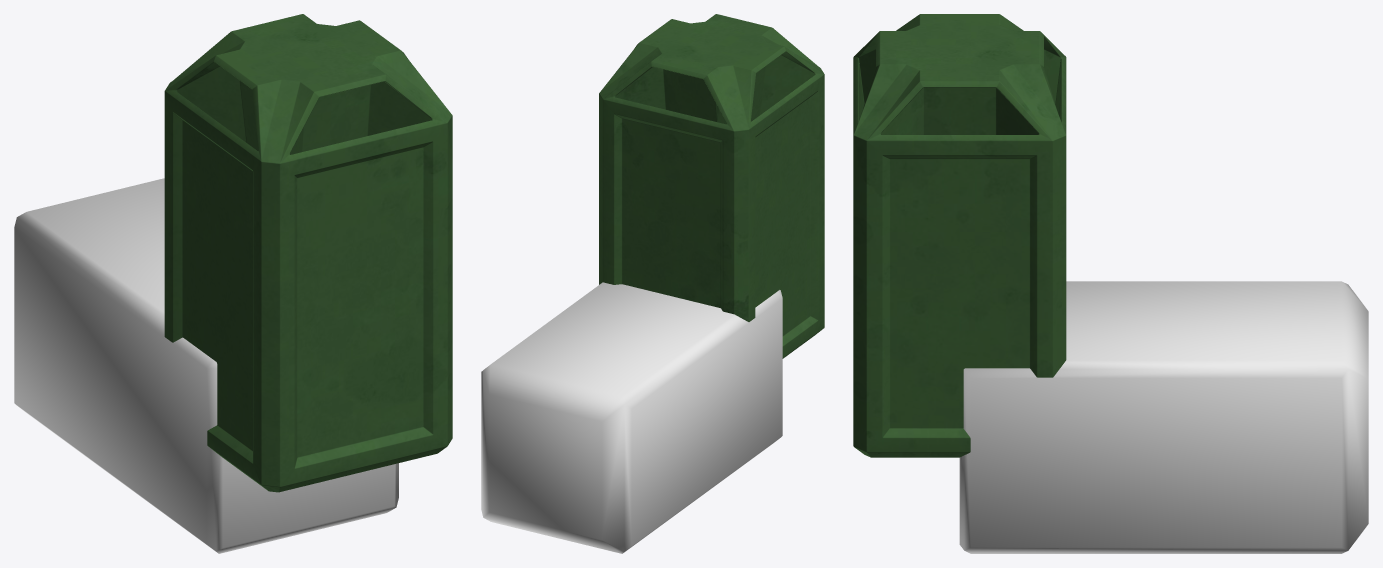
Rendered from SM_Street_Bin.fbx.
3 renders of one model, left to right at view 1: azimuth 30°, elevation 25°; view 2: azimuth 150°, elevation 25°; view 3: azimuth 270°, elevation 25°, orthographic. The views are drawn at different scales.
Visible parts, largest first — view 1: SM_Street_Bin, SM_Street_Bin_ConvexHulls; view 2: SM_Street_Bin_ConvexHulls, SM_Street_Bin; view 3: SM_Street_Bin_ConvexHulls, SM_Street_Bin.
Part boxes in pixels (box(x1,y1,x2,y2)): SM_Street_Bin: box(164, 14, 452, 492); SM_Street_Bin_ConvexHulls: box(14, 178, 398, 553); SM_Street_Bin_ConvexHulls: box(481, 282, 782, 553); SM_Street_Bin: box(599, 14, 824, 358); SM_Street_Bin_ConvexHulls: box(959, 281, 1368, 553); SM_Street_Bin: box(853, 14, 1066, 457).
Bounding box in the file's own units: 0.6025 × 1.45 × 1.45.
